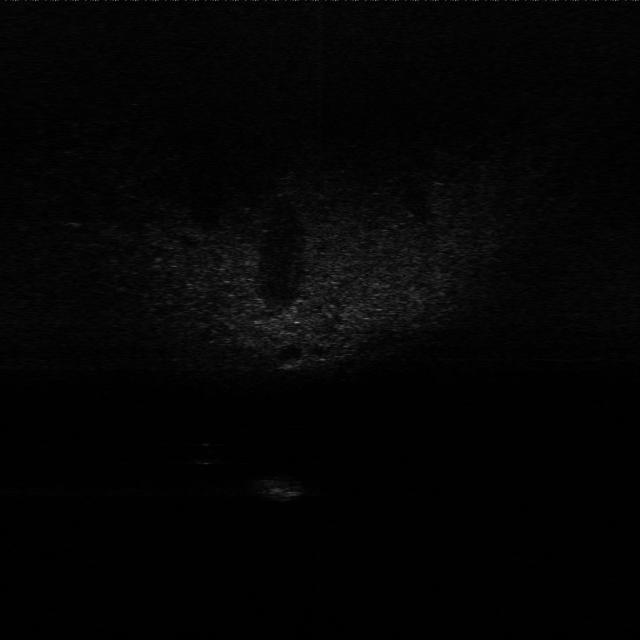ball: (189, 439, 223, 466)
circle cage: (254, 472, 314, 506)
